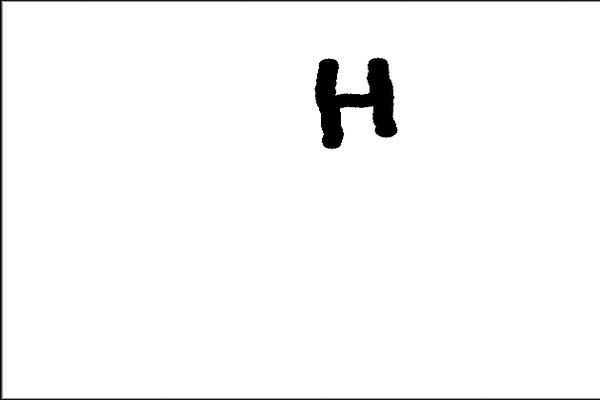H: (310, 47, 404, 156)
